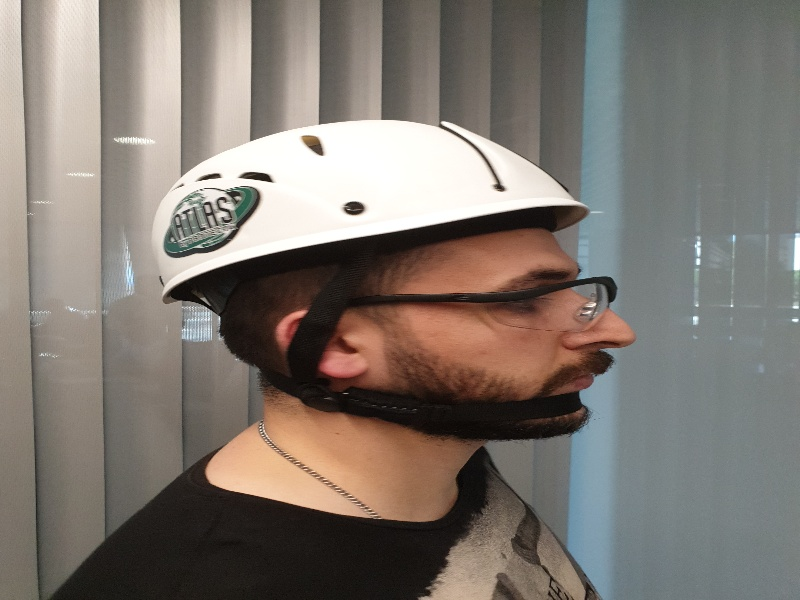Baret: (148, 123, 611, 237)
Gozluk: (354, 275, 638, 337)
